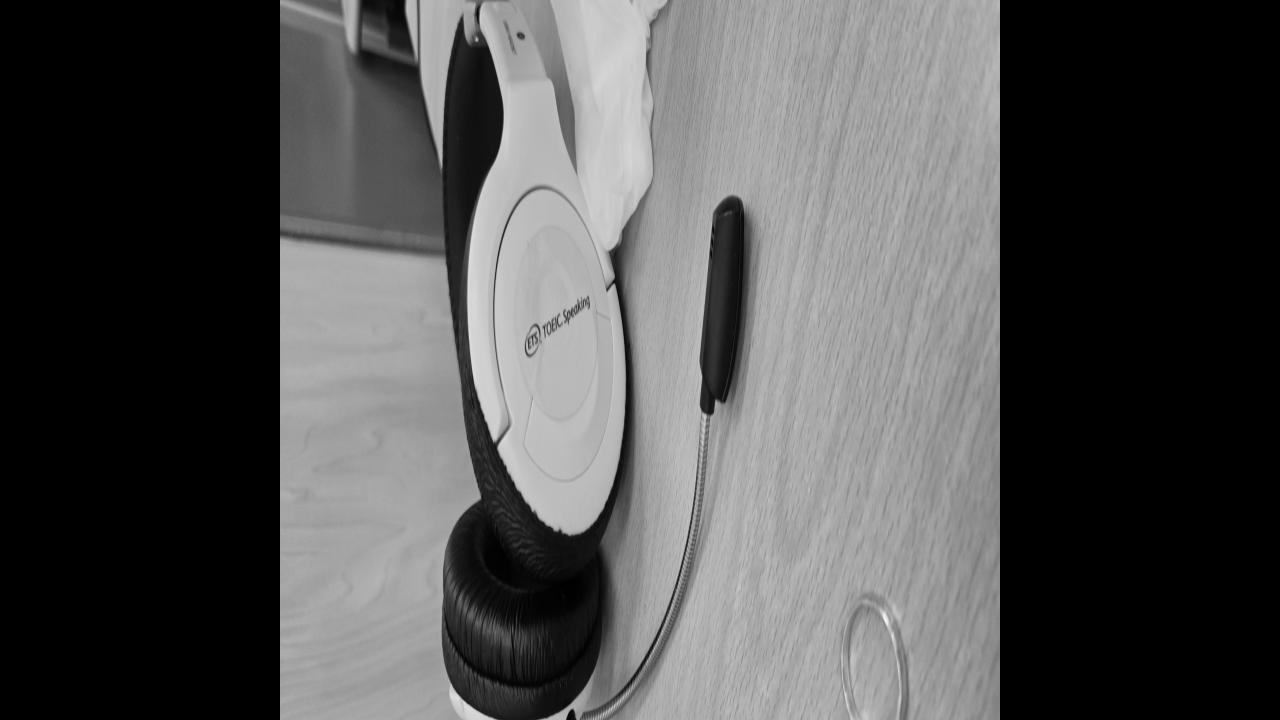ring: (838, 592, 909, 720)
